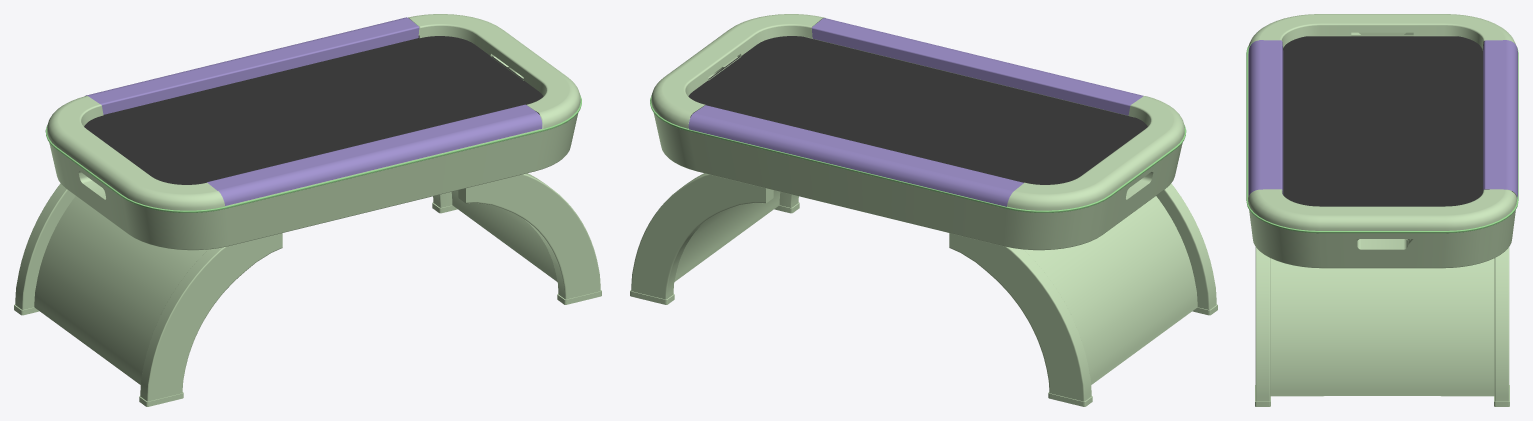
File: Bordet.fbx
The picture shows the model from 3 angles, left to right: view 1: azimuth 30°, elevation 25°; view 2: azimuth 150°, elevation 25°; view 3: azimuth 270°, elevation 25°; orthographic projection. The views are drawn at different scales.
Parts seen in each view (by area): view 1: fot_2, Cube_59; view 2: fot_2, Cube_59; view 3: fot_2, Cube_59.
Part boxes in pixels (box(x1,y1,x2,y2)): fot_2: box(14, 14, 601, 406); Cube_59: box(84, 35, 543, 184); fot_2: box(630, 14, 1217, 406); Cube_59: box(688, 36, 1147, 184); fot_2: box(1246, 14, 1518, 406); Cube_59: box(1282, 36, 1489, 206).
Bounding box in the file's own units: 196 × 105 × 80.21.
